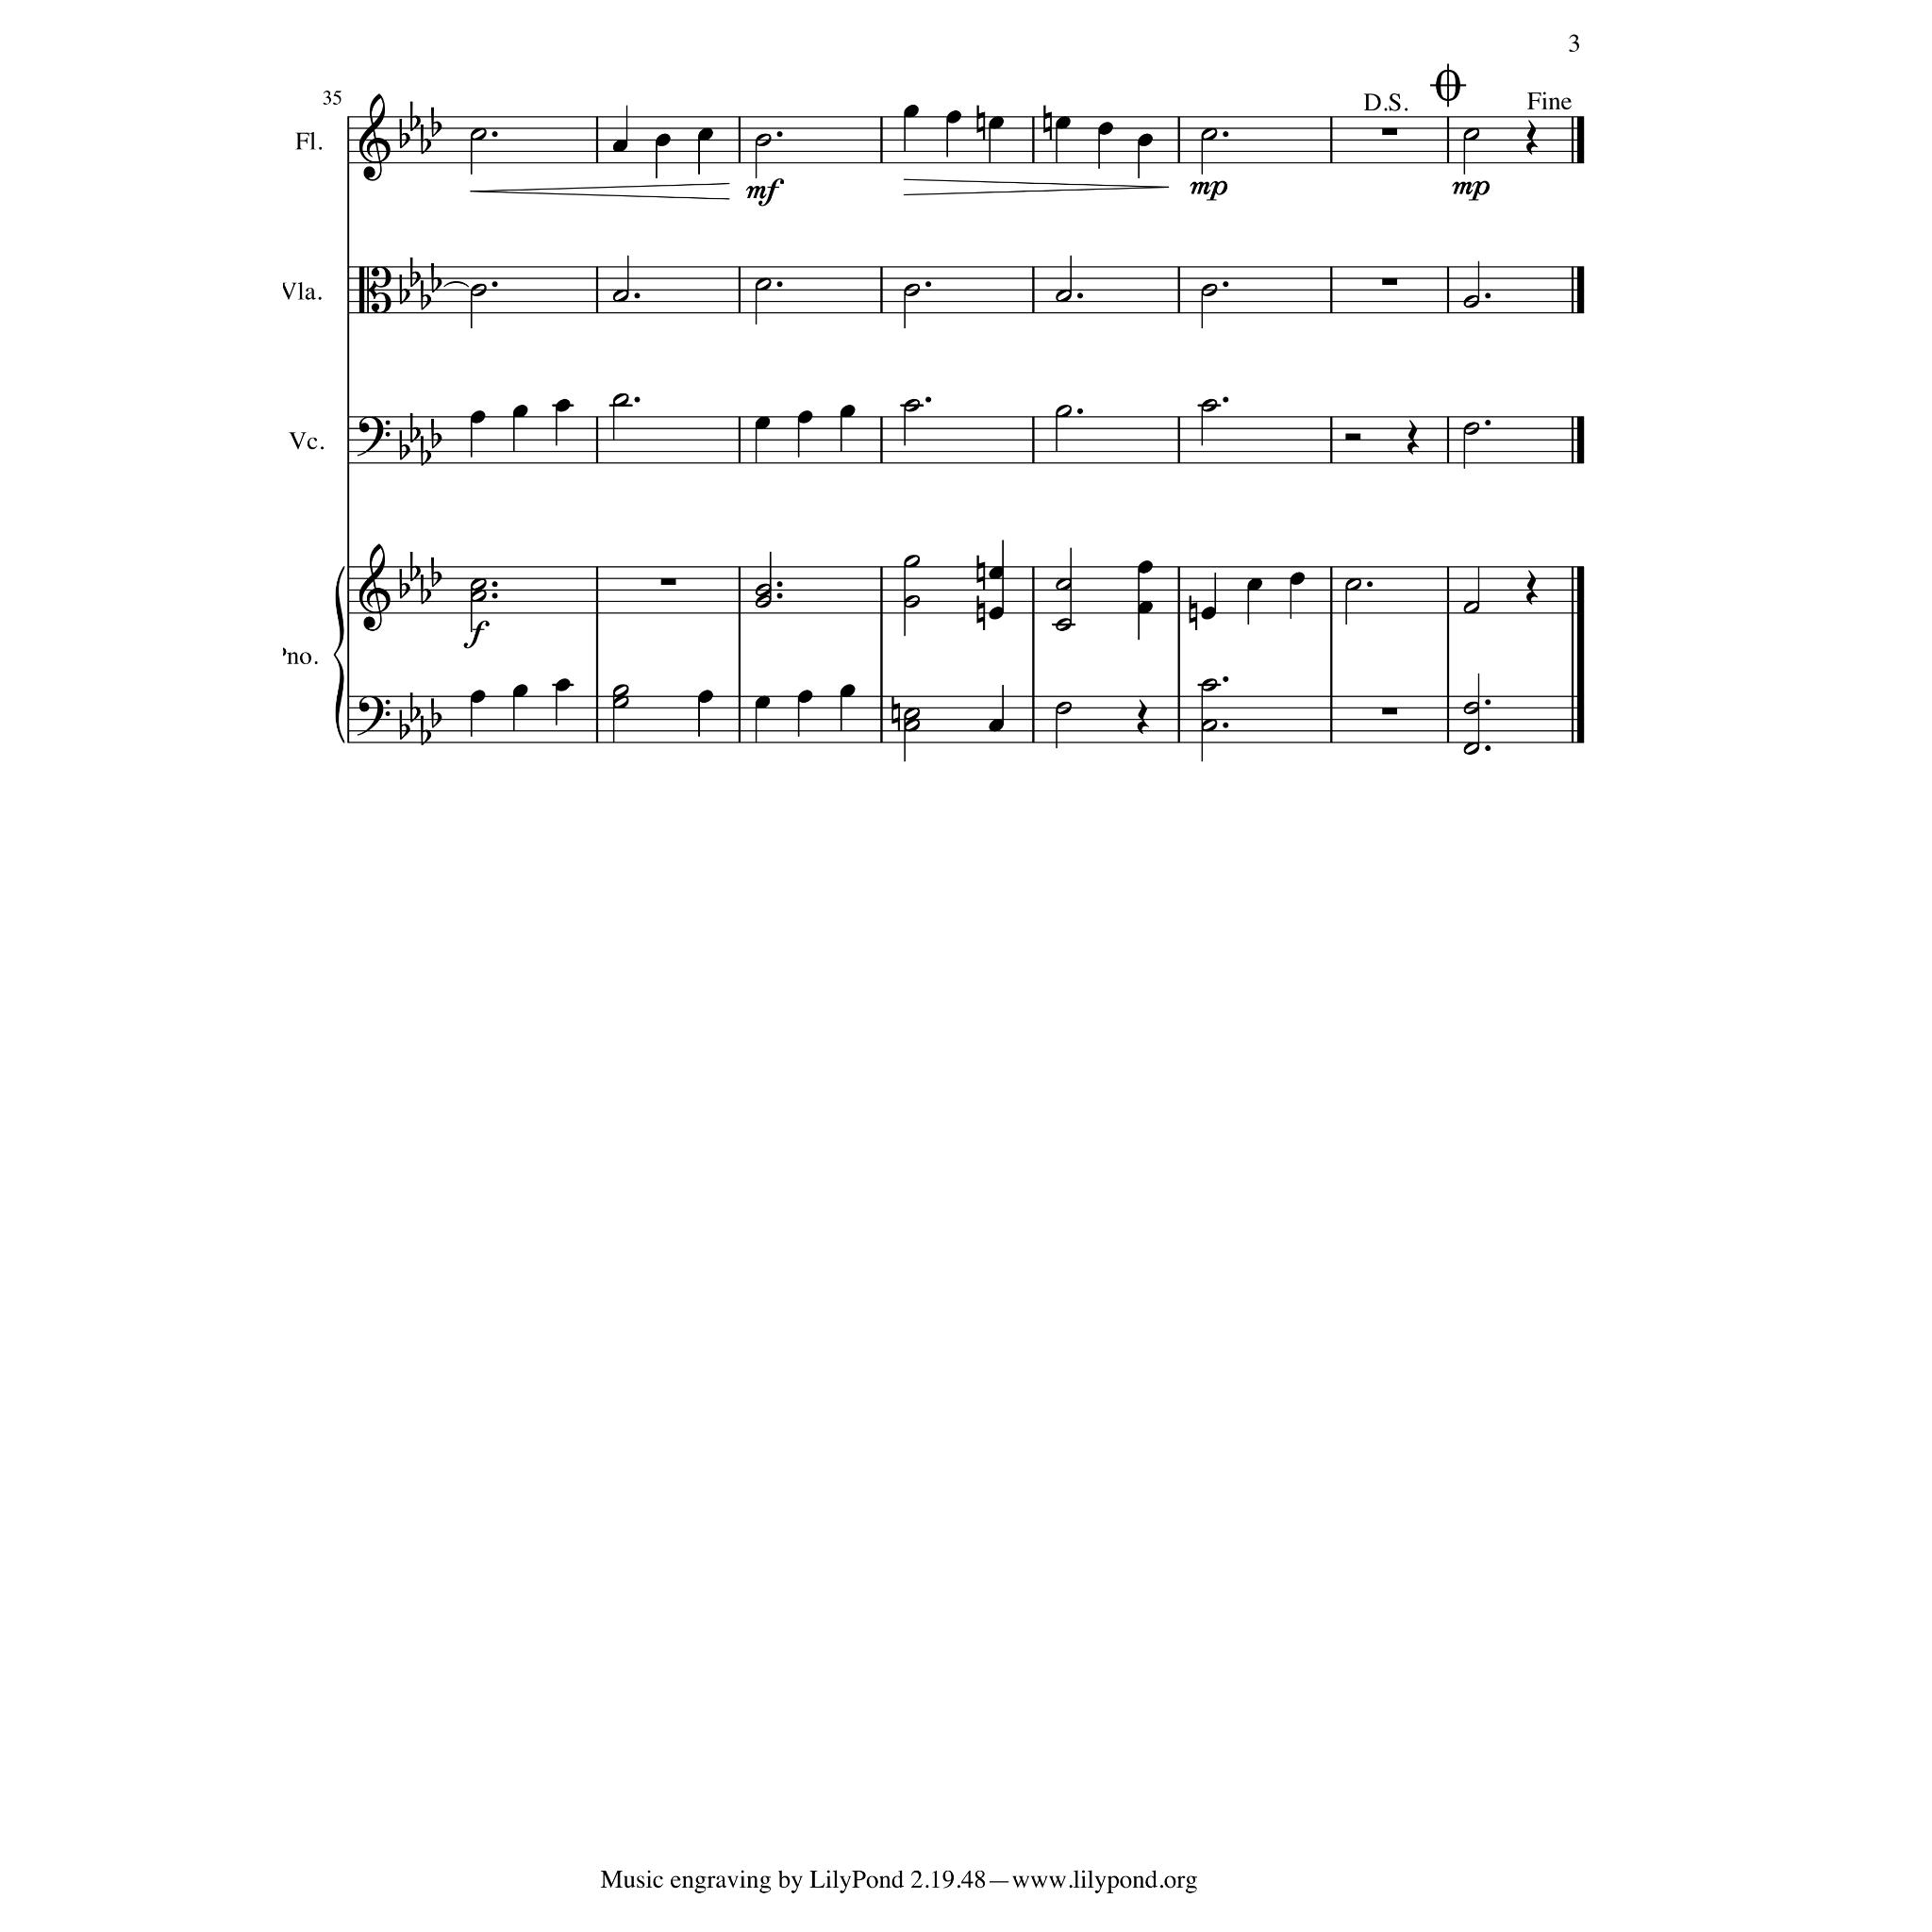brace: (332, 566, 345, 743)
fClef: (357, 417, 391, 457), (357, 696, 391, 736)
gClef: (358, 93, 391, 182), (358, 543, 391, 632)
noteheadBlack: (945, 109, 962, 125), (555, 677, 570, 692), (989, 566, 1004, 581), (1055, 117, 1072, 130), (1200, 607, 1217, 620), (1289, 573, 1306, 586), (611, 140, 628, 153), (696, 128, 713, 142), (696, 691, 713, 704), (796, 410, 813, 424), (796, 691, 813, 704), (1098, 122, 1113, 135), (1138, 134, 1153, 147), (1138, 601, 1153, 614), (1138, 560, 1153, 574), (1247, 578, 1262, 591), (555, 399, 570, 412), (655, 134, 670, 147), (513, 684, 528, 697), (513, 405, 528, 418), (470, 410, 485, 424), (470, 691, 485, 704), (840, 684, 855, 697), (904, 105, 919, 118), (989, 719, 1004, 732), (989, 117, 1004, 130), (989, 607, 1004, 620), (755, 416, 770, 429), (840, 405, 855, 418), (755, 696, 770, 709)
noteheadHalf: (903, 594, 920, 609), (755, 594, 772, 609), (1201, 679, 1218, 692), (1055, 702, 1072, 715), (1055, 578, 1072, 591), (1055, 618, 1072, 631), (1055, 405, 1072, 418), (1055, 290, 1072, 303), (1201, 284, 1218, 297), (1201, 128, 1218, 142), (1201, 399, 1218, 412), (1201, 719, 1218, 732), (1344, 578, 1361, 591), (1463, 741, 1480, 755), (1463, 702, 1480, 715), (1463, 601, 1480, 614), (1463, 128, 1480, 142), (1463, 295, 1480, 308), (1463, 423, 1480, 436), (612, 393, 629, 407), (612, 696, 629, 709), (612, 684, 629, 697), (612, 290, 629, 303), (470, 128, 487, 142), (470, 284, 487, 297), (470, 590, 487, 603), (470, 578, 487, 591), (903, 284, 920, 297), (755, 134, 772, 147), (903, 399, 920, 412), (903, 555, 920, 568), (903, 719, 920, 732), (903, 708, 920, 721), (755, 278, 772, 291), (755, 584, 772, 597)
restHalf: (1345, 433, 1360, 441)
restQuarter: (1136, 699, 1149, 735), (1525, 120, 1539, 156), (1525, 570, 1539, 606), (1407, 420, 1419, 456)
restWhole: (1381, 278, 1398, 286), (1381, 708, 1398, 715), (1381, 128, 1398, 136), (660, 578, 675, 586)
